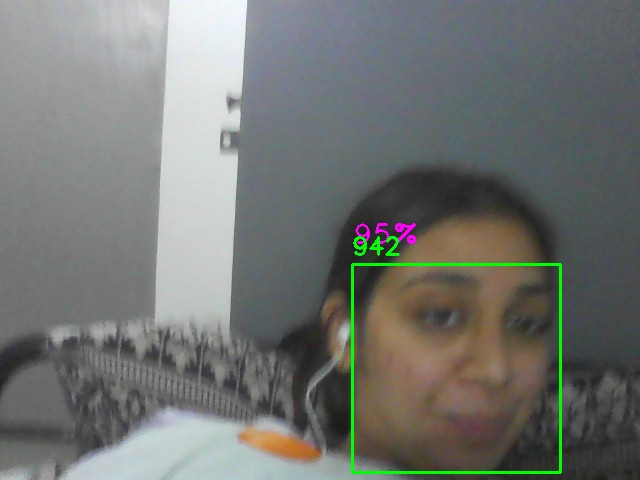real: (352, 264, 561, 473)
